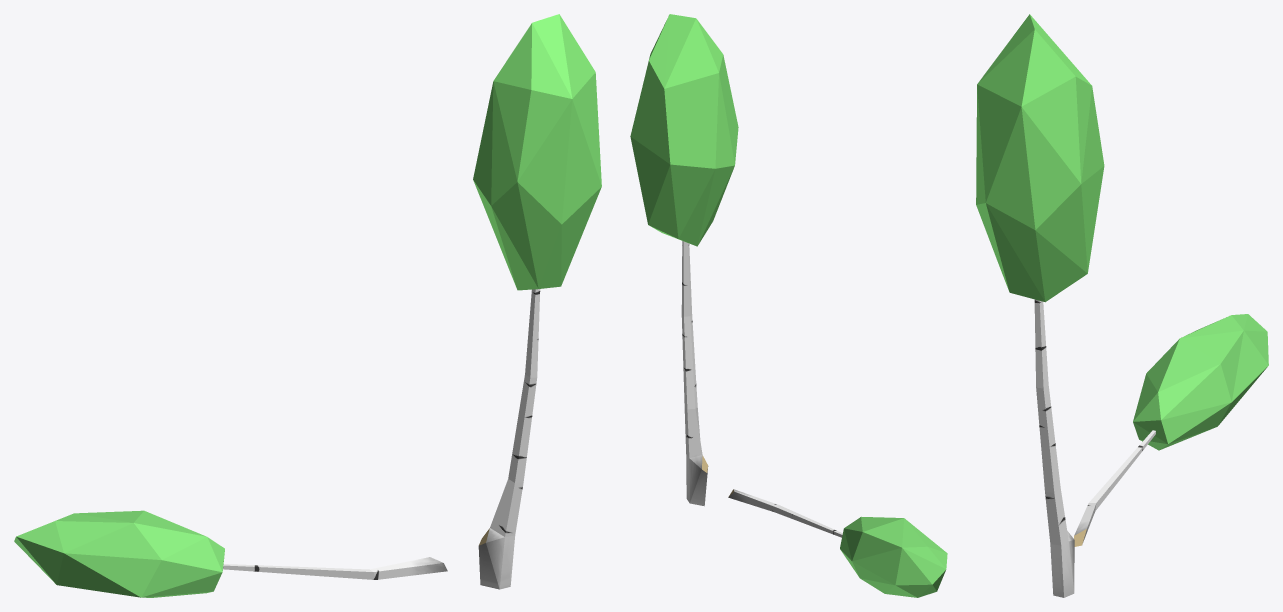
Rendered from Birch_Tree_crk_m_05_LOD.fbx.
3 renders of one model, left to right at view 1: azimuth 30°, elevation 25°; view 2: azimuth 150°, elevation 25°; view 3: azimuth 270°, elevation 25°, orthographic. The views are drawn at different scales.
Parts seen in each view (by area): view 1: Birch_Tree_crk_m_05_LOD0; view 2: Birch_Tree_crk_m_05_LOD0; view 3: Birch_Tree_crk_m_05_LOD0.
Part boxes in pixels (x1,y1,x2,y2): Birch_Tree_crk_m_05_LOD0: (14,14,601,597); Birch_Tree_crk_m_05_LOD0: (630,14,947,597); Birch_Tree_crk_m_05_LOD0: (976,14,1268,597).
Size of what is drawn, in the model's own units: 660 by 756 by 342.
